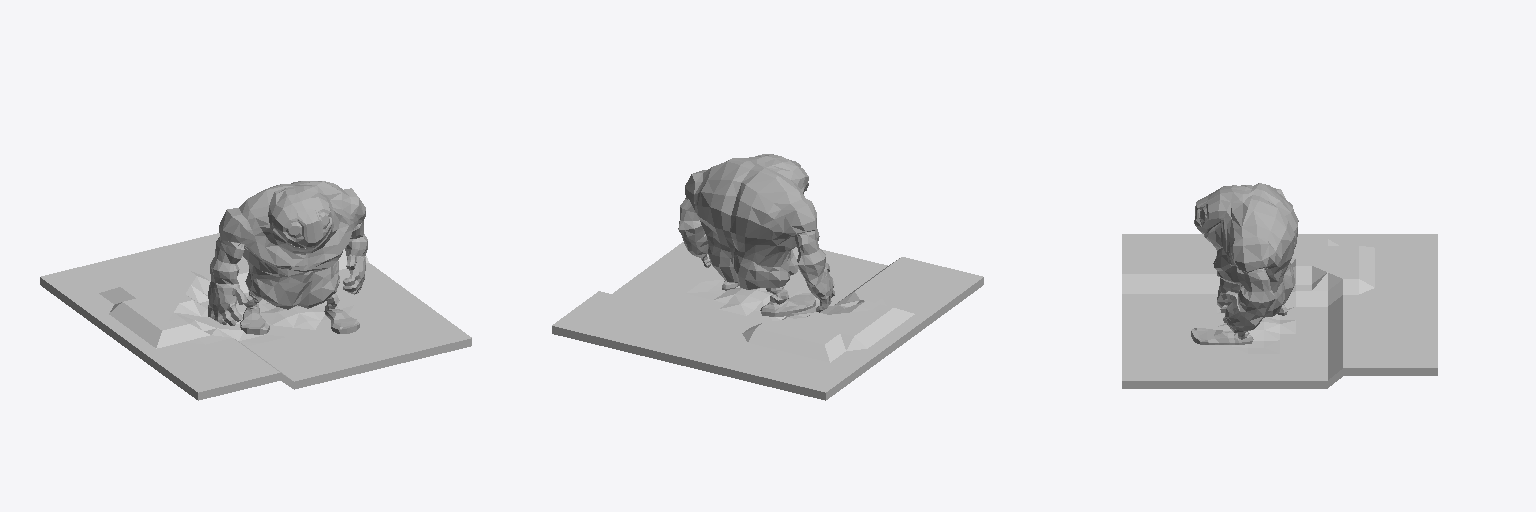
The model's file is bigguy-on-terrain.obj.
The picture shows the model from 3 angles: view 1: azimuth 30°, elevation 25°; view 2: azimuth 150°, elevation 25°; view 3: azimuth 270°, elevation 25°; orthographic projection.
Visible parts, largest first — view 1: Mesh, bigguy_58; view 2: Mesh, bigguy_58; view 3: Mesh, bigguy_58.
Part boxes in pixels (x1,y1,x2,y2): Mesh: (40,233,471,400); bigguy_58: (208,181,367,334); Mesh: (552,242,983,400); bigguy_58: (678,154,834,316); Mesh: (1122,234,1437,388); bigguy_58: (1191,183,1298,344).
Bounding box in the file's own units: 15.6 × 8.32 × 15.6.